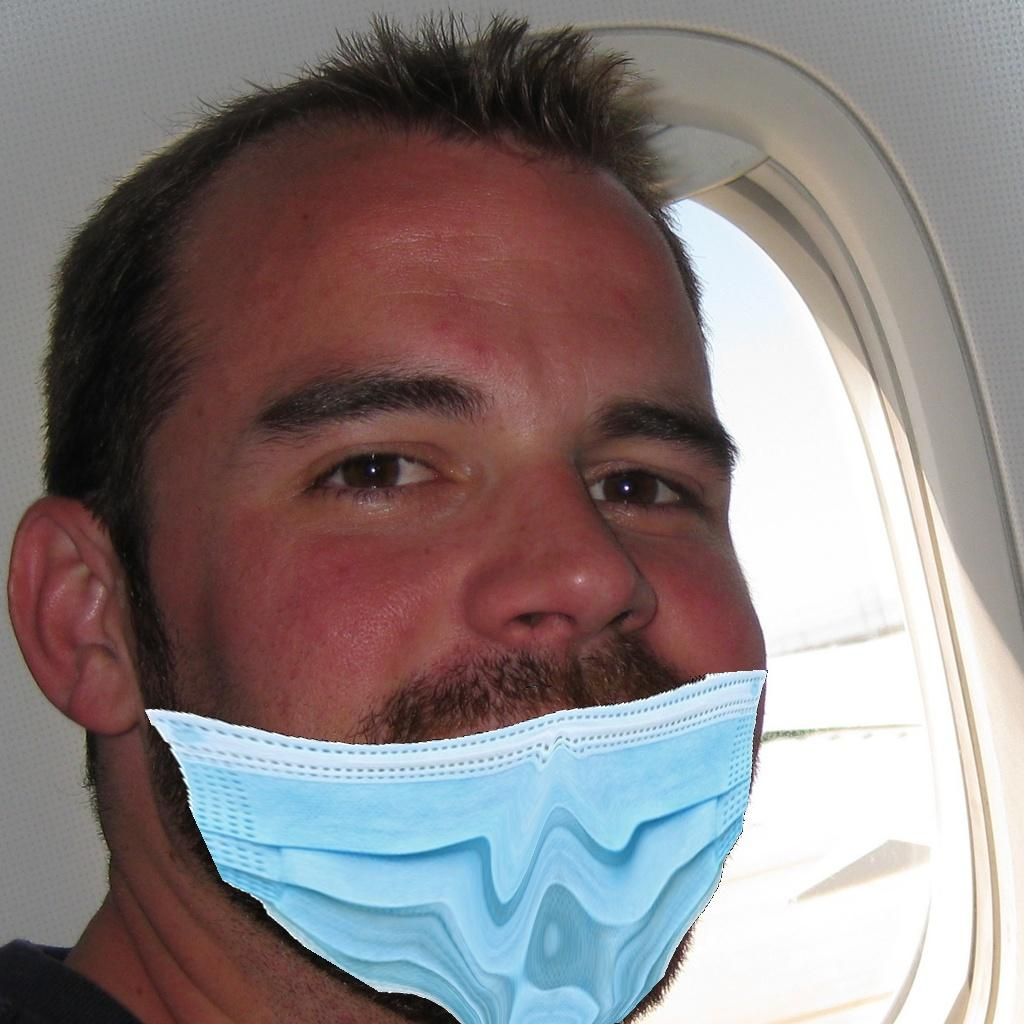Máscara Incorreta: (168, 272, 785, 1013)
